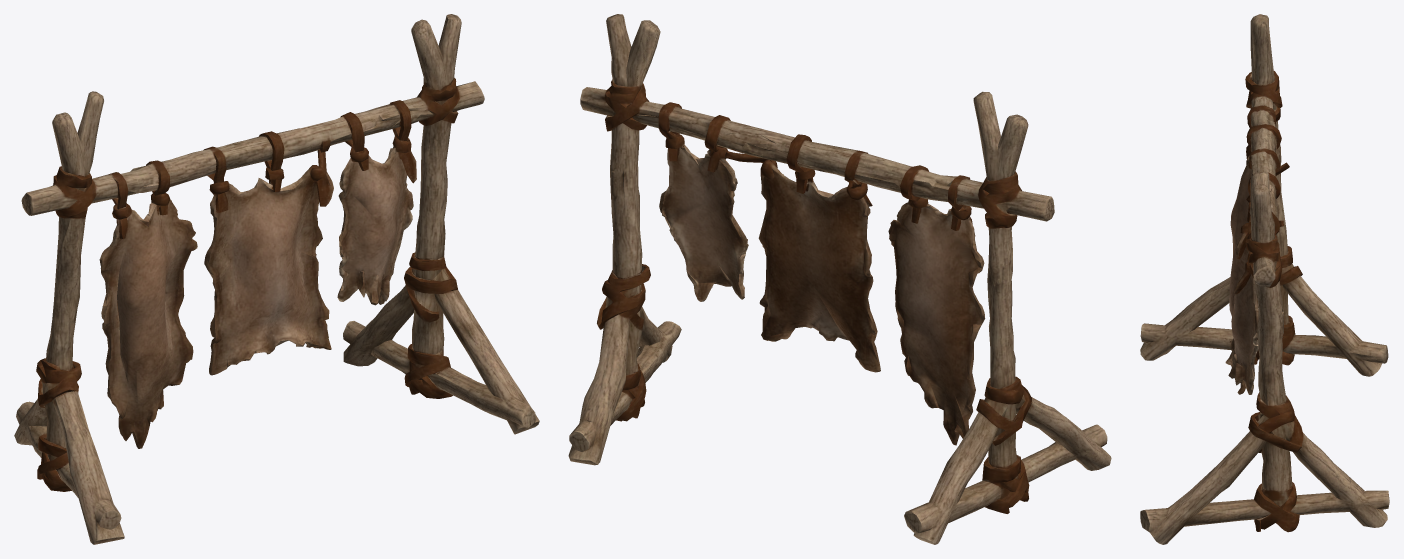
3 views of the same model, side by side, from view 1: azimuth 30°, elevation 25°; view 2: azimuth 150°, elevation 25°; view 3: azimuth 270°, elevation 25° (orthographic). The views are drawn at different scales.
Visible parts, largest first — view 1: drying-rack; view 2: drying-rack; view 3: drying-rack.
Part boxes in pixels (<box>): drying-rack: <box>14,14,539,544</box>; drying-rack: <box>568,14,1111,544</box>; drying-rack: <box>1140,14,1389,544</box>.
Size of the model in its own units: 2.89 by 2.4 by 1.5.
Materials: 1 (1 with a texture image).
